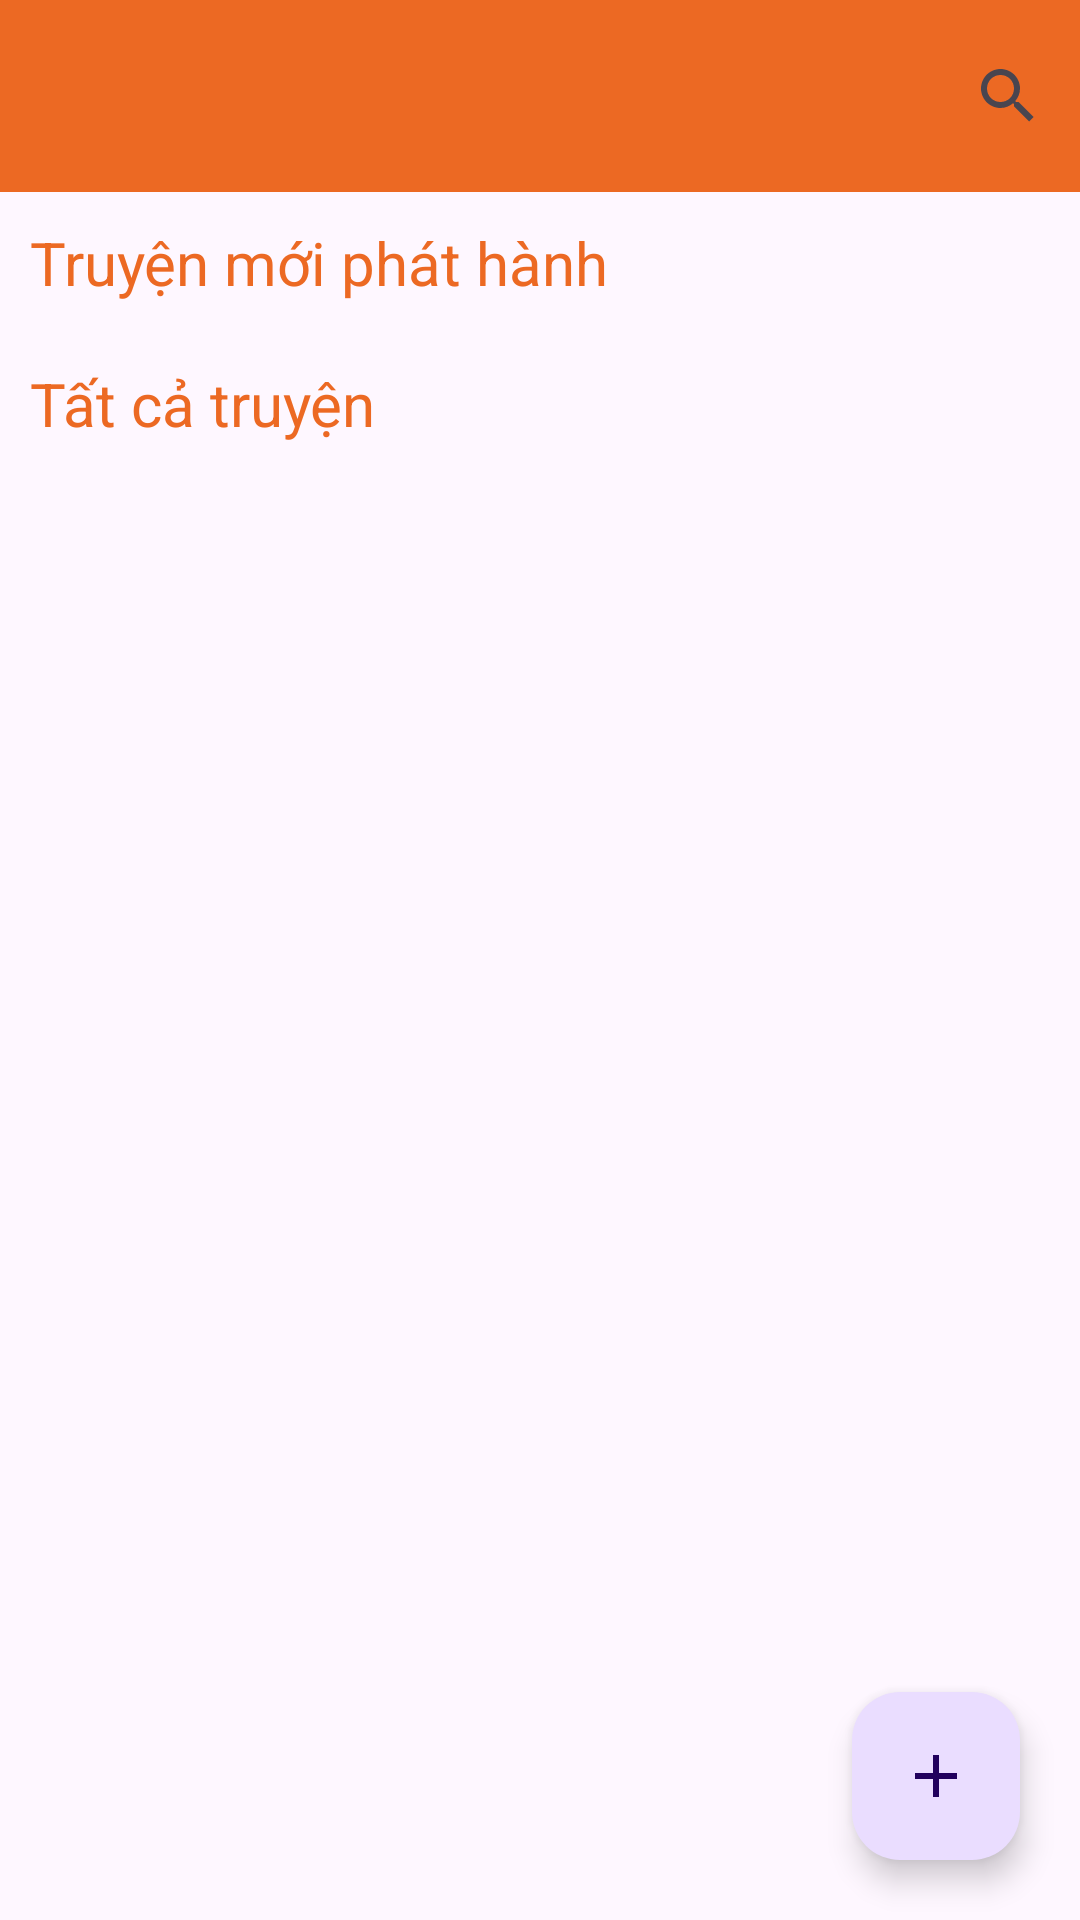

Screen size 1080 x 1920. Icon name, then its center in pixels as (x,y):
addmanga: (936,1776)
